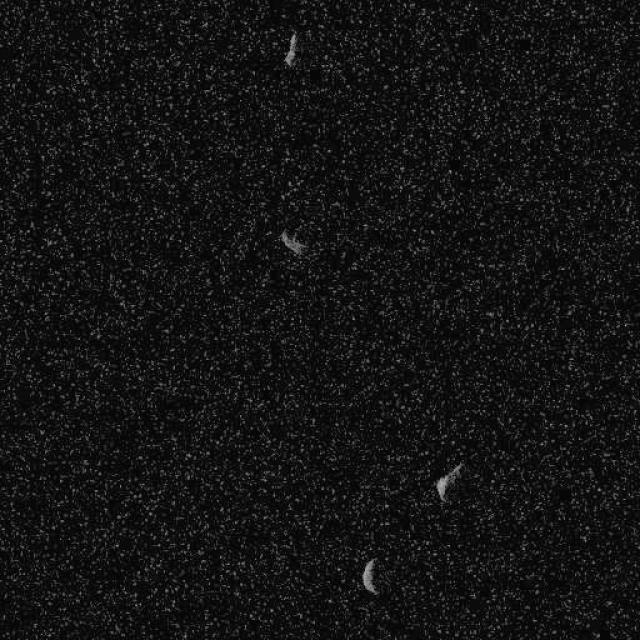D2: (434, 460, 465, 502), (278, 229, 308, 256), (360, 556, 379, 595), (282, 30, 298, 66)
